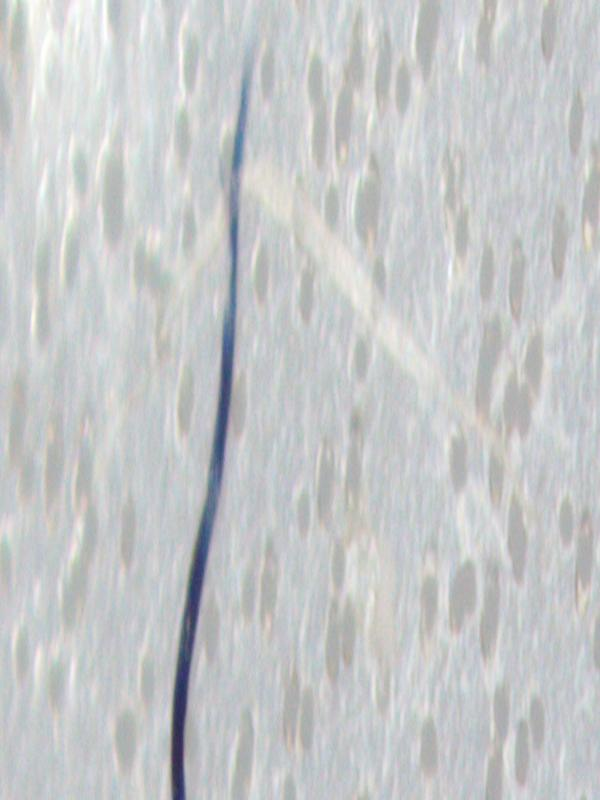microplastic: (1, 2, 598, 795), (169, 25, 259, 795)
